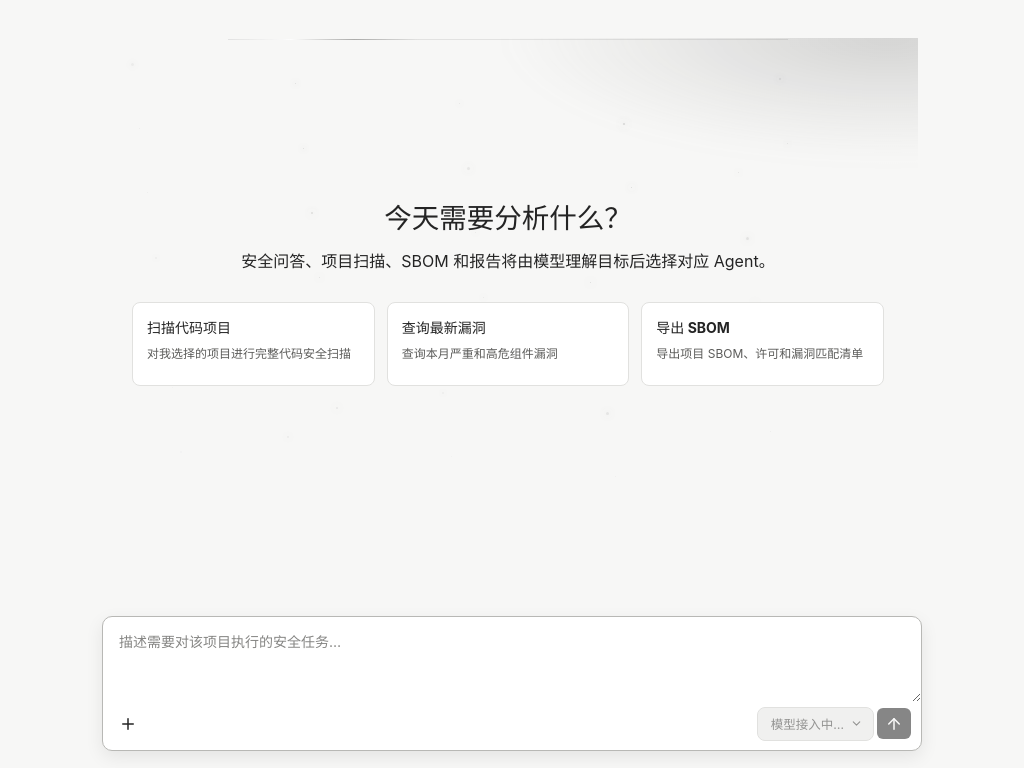
Test: AssistantWorkspace project routing › asks for the scan type when the question uses common check wording
Type "检查这个项目的安全状况" into the text box. click: (512, 659)
box: [103,617,921,702]
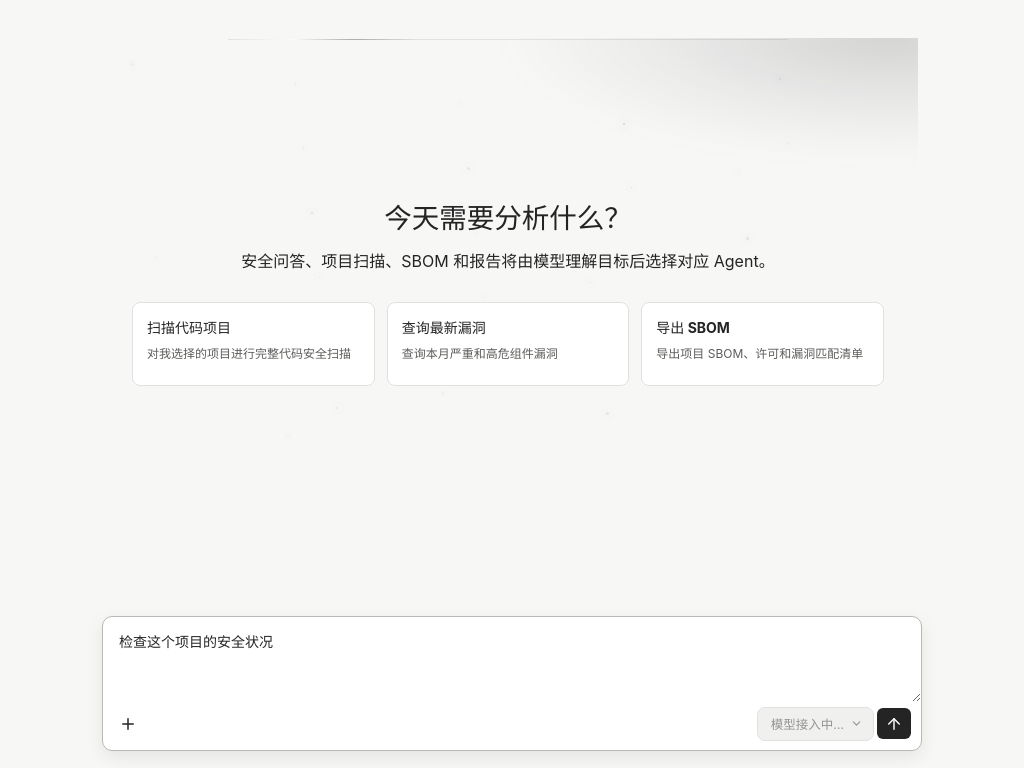
Press Enter in the text box, box [103,617,921,702]
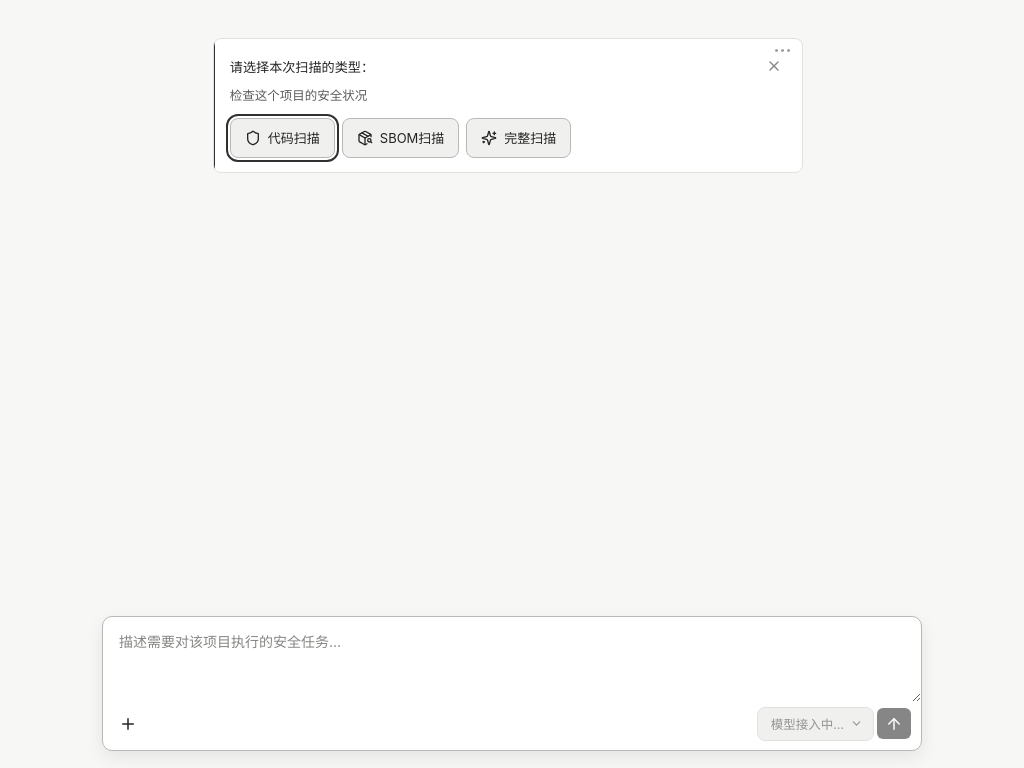
Expected: the dialog "请选择本次扫描的类型：" is shown, [213,38,803,173]
Expected: the button "SBOM扫描" is shown, [342,118,459,158]
Expected: the button "完整扫描" is shown, [466,118,571,158]
